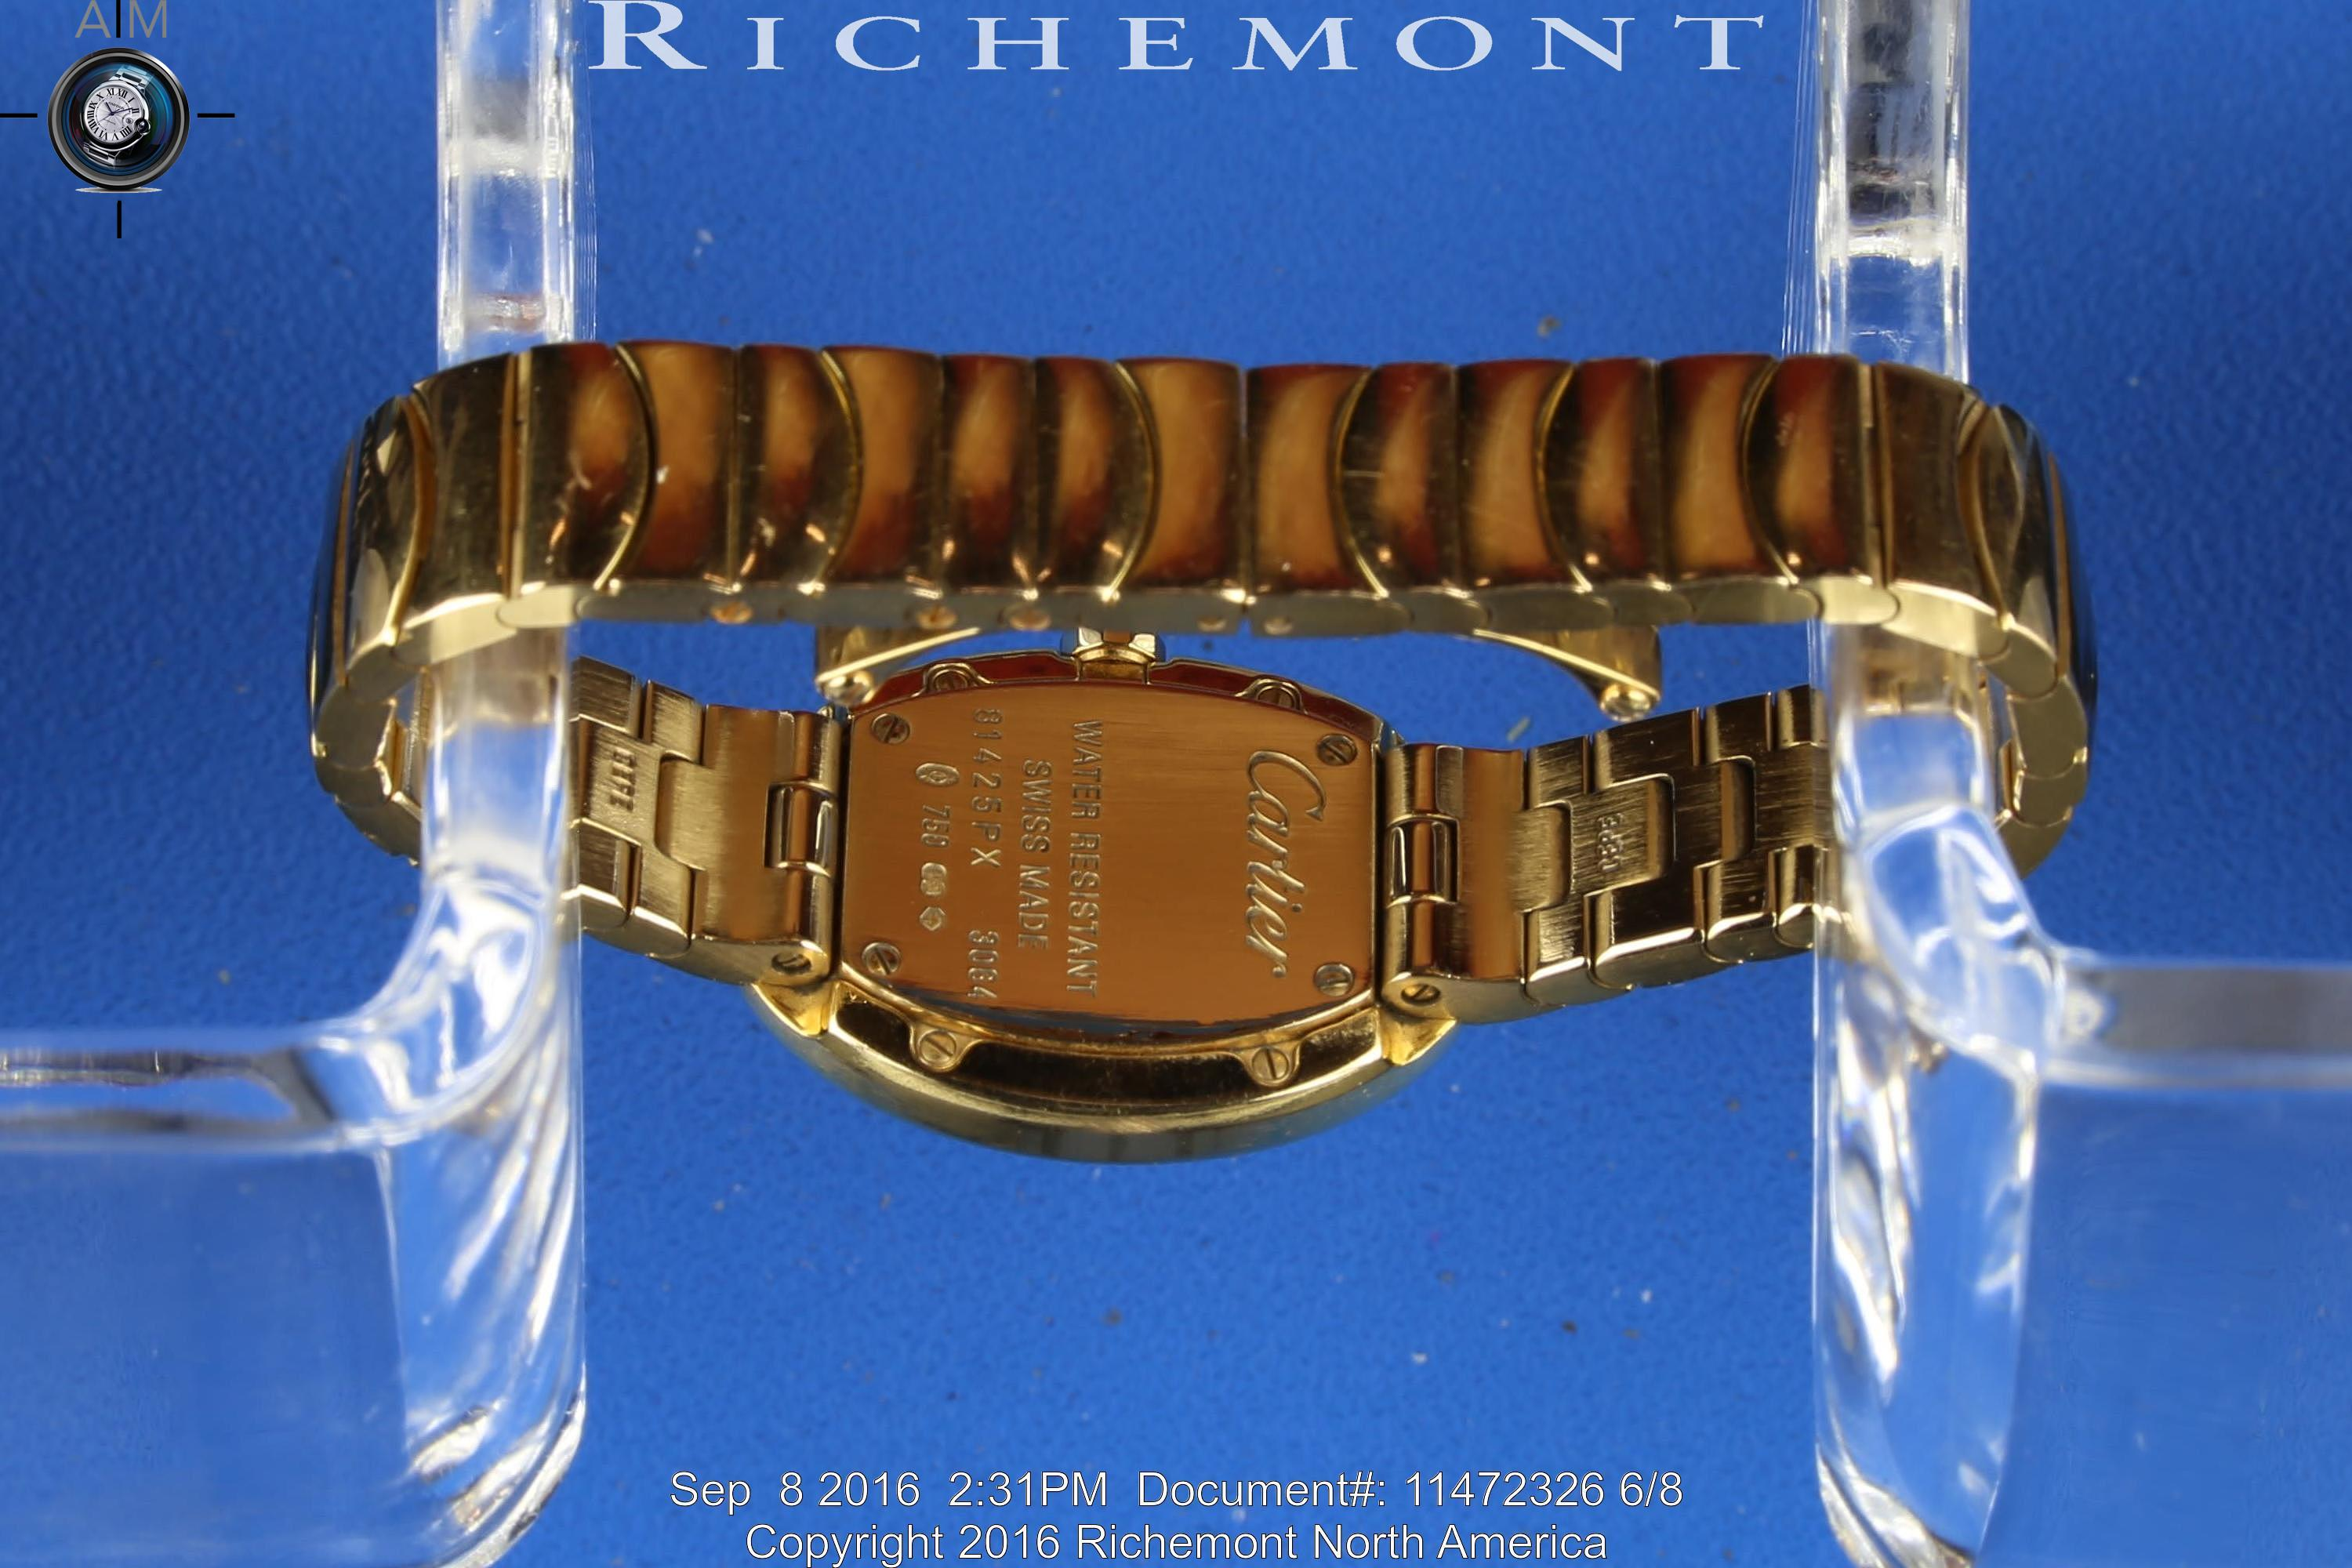Watch Back Case: (789, 653, 1470, 1169)
